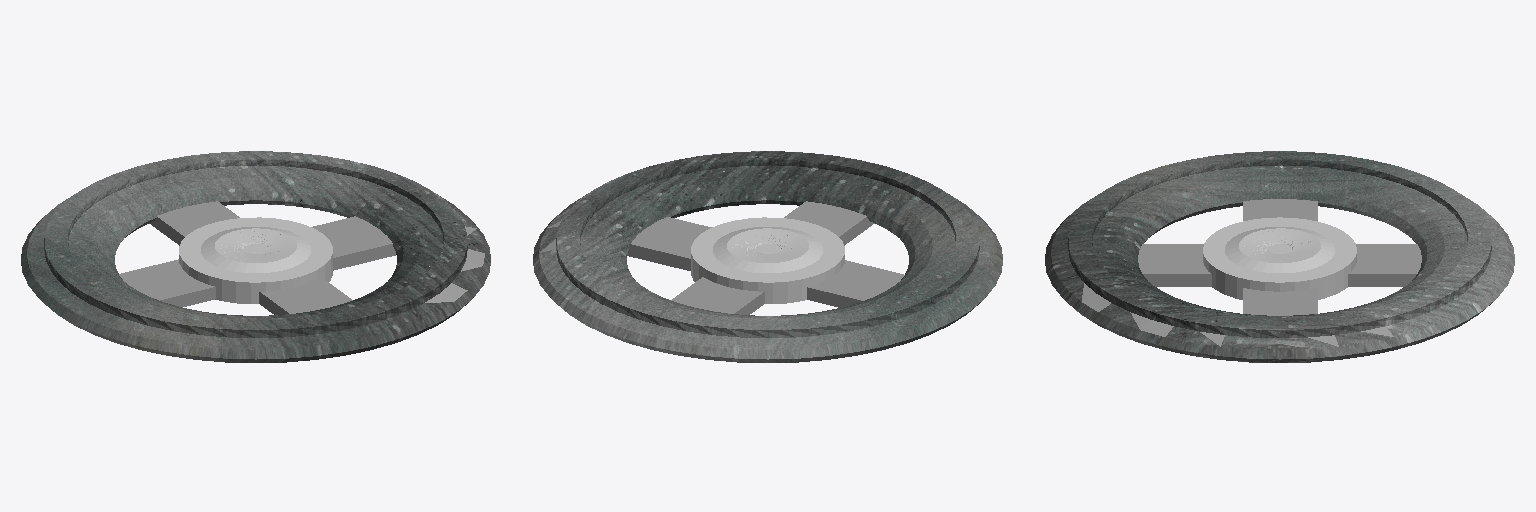
3 views of the same model, side by side, from view 1: azimuth 30°, elevation 25°; view 2: azimuth 150°, elevation 25°; view 3: azimuth 270°, elevation 25° (orthographic).
Visible parts, largest first — view 1: OutRing_Torus, Cylinder, Cross_Cube.001; view 2: OutRing_Torus, Cylinder, Cross_Cube.001; view 3: OutRing_Torus, Cylinder, Cross_Cube.001.
Boxes of the visible parts, x1,y1,x2,y2 form: OutRing_Torus: [21, 151, 490, 362]; Cylinder: [179, 217, 332, 303]; Cross_Cube.001: [119, 201, 395, 314]; OutRing_Torus: [533, 151, 1002, 362]; Cylinder: [691, 217, 844, 303]; Cross_Cube.001: [627, 201, 904, 314]; OutRing_Torus: [1045, 151, 1514, 362]; Cylinder: [1203, 217, 1356, 299]; Cross_Cube.001: [1138, 199, 1421, 315].
Bounding box in the file's own units: 13.28 × 1.06 × 13.28.
4 materials, 1 textured.